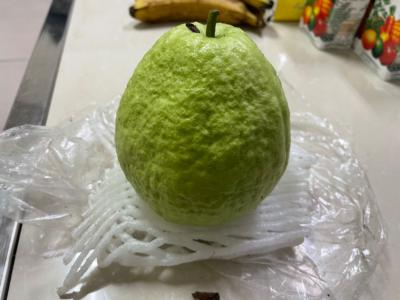guava: (113, 11, 291, 227)
